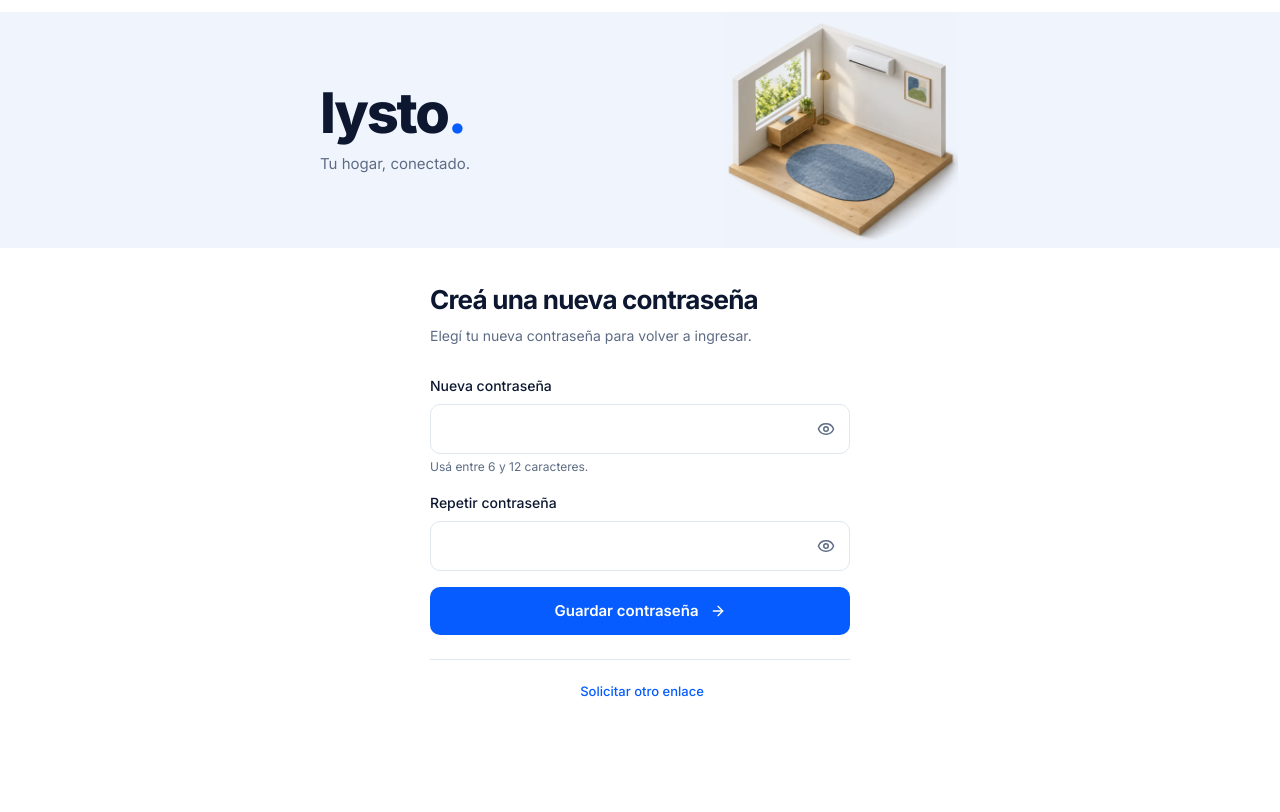
it: customer access visual shell › allows revealing a new password and reports a mismatch without sending it
The image size is (1280, 812).
Click the button named "Mostrar nueva contraseña".
click(826, 429)  # box [804,407,848,451]
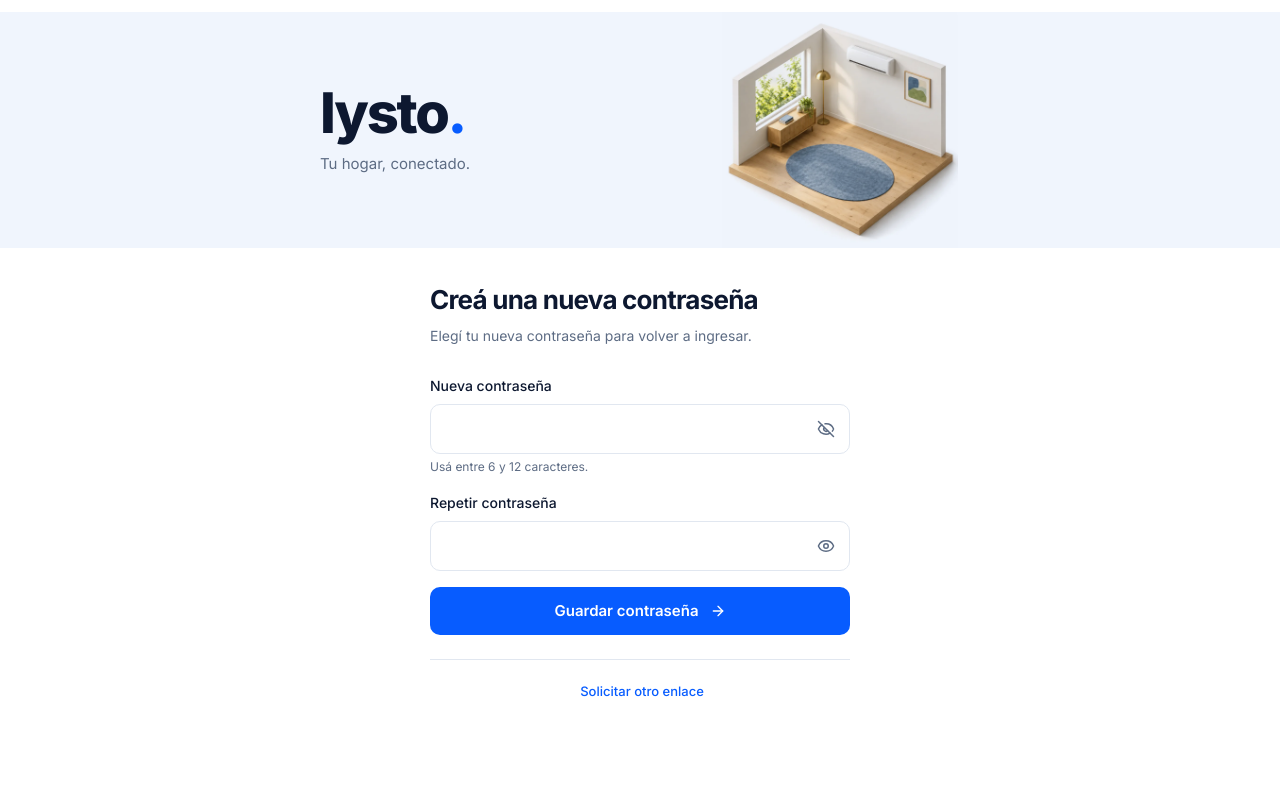
Type "segura123" into the field labelled "Nueva contraseña".
click(640, 429); type("segura123")  # box [430,404,850,454]
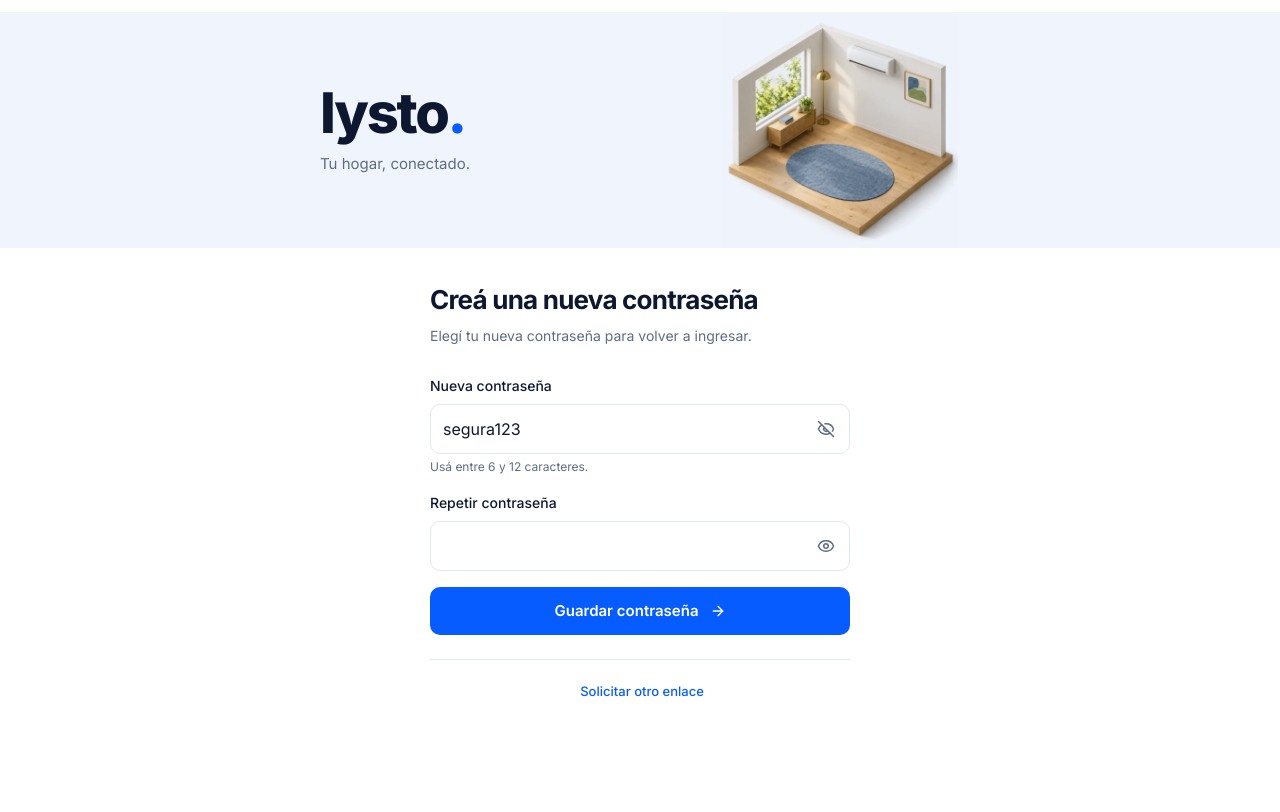
Type "diferente123" into the password field labelled "Repetir contraseña".
click(640, 546); type("diferente123")  # box [430,521,850,571]
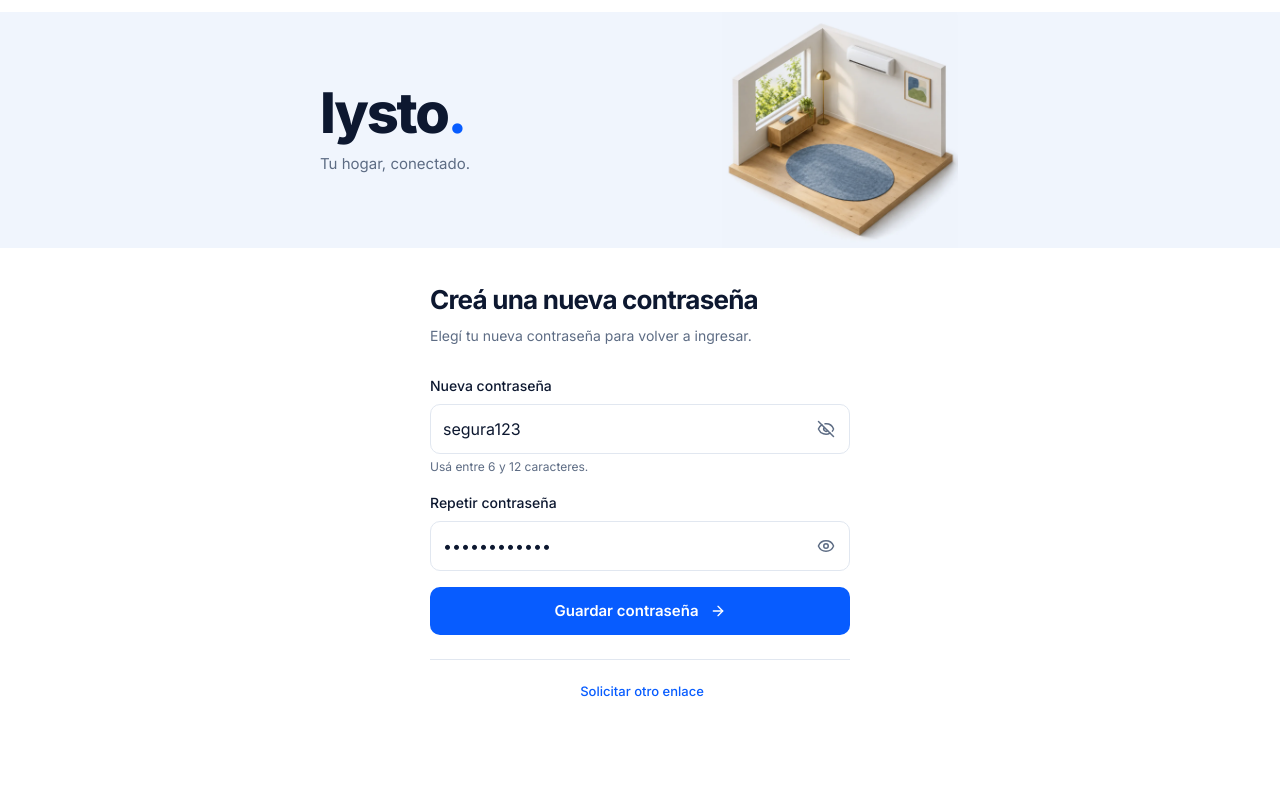
Submit the form, box [430,375,850,635]
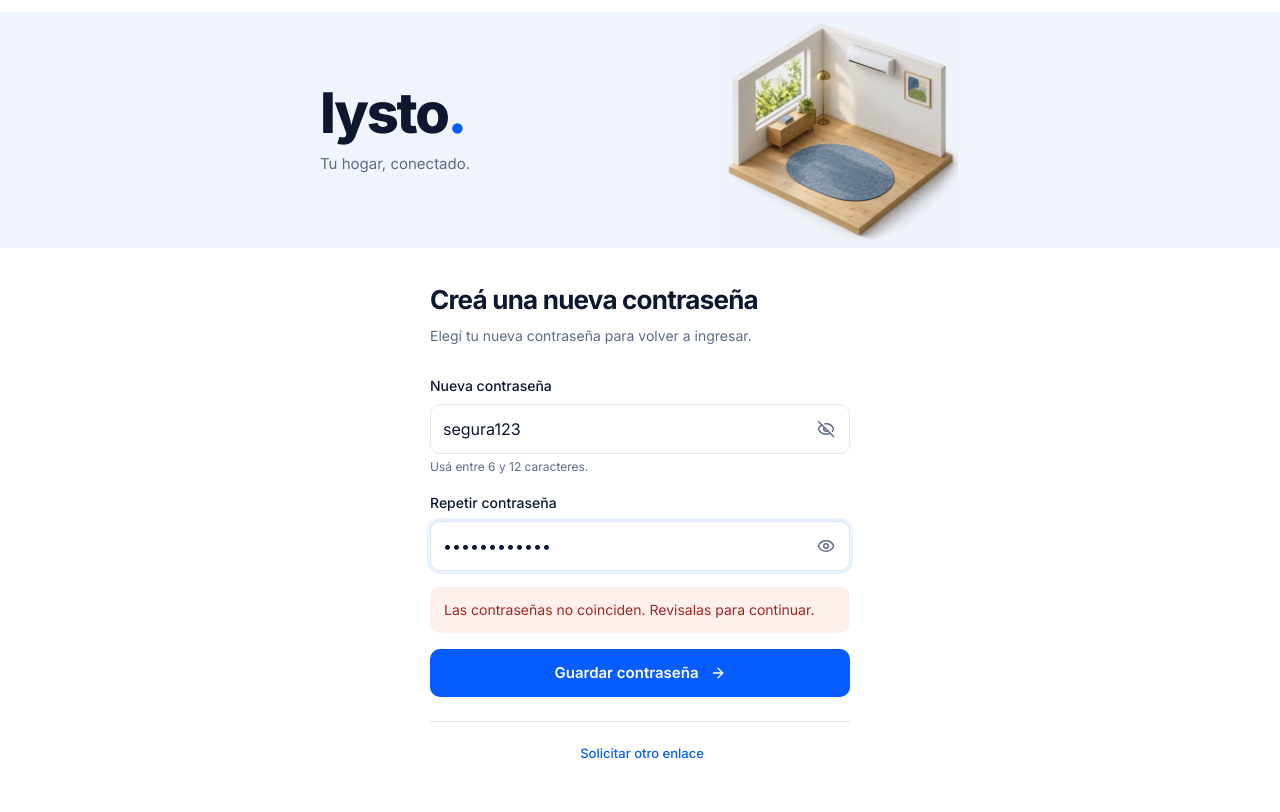
Expected: the button "Guardar contraseña" is enabled, [430,649,850,697]
Now the message shows "Las contraseñas no coinciden", box [444,601,814,618]
